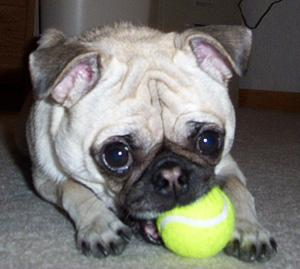dog-pug: (28, 22, 251, 218)
